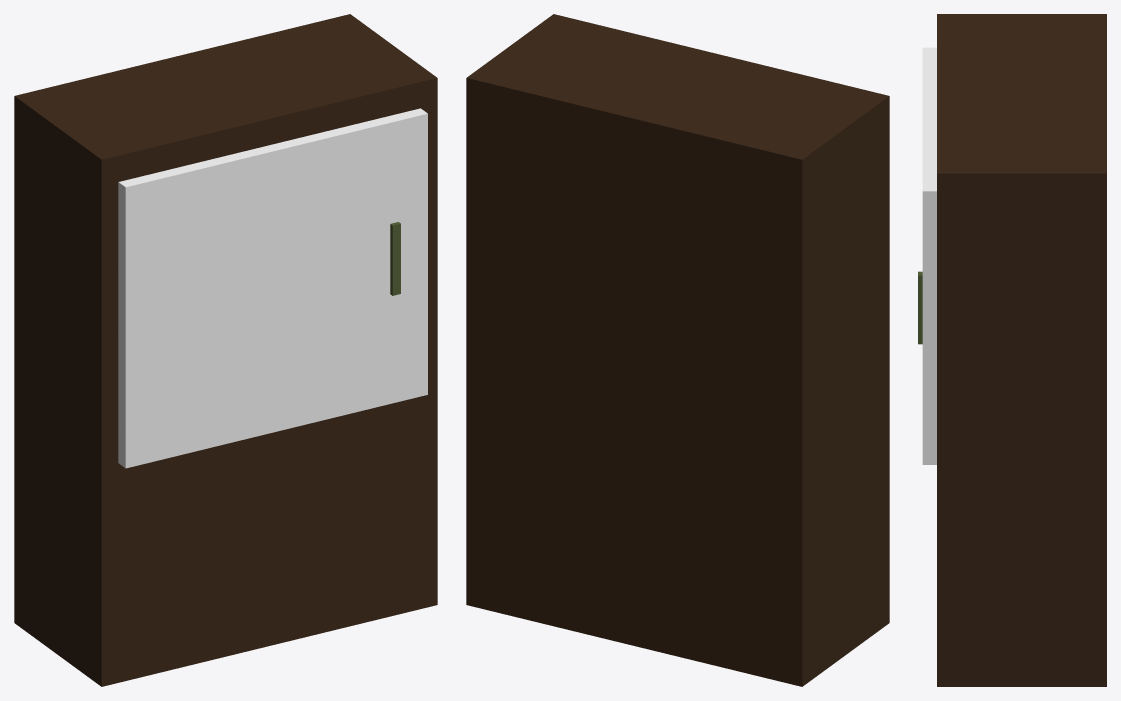
Rendered from balconycabinet.glb.
The picture shows the model from 3 angles, left to right: view 1: azimuth 30°, elevation 25°; view 2: azimuth 150°, elevation 25°; view 3: azimuth 270°, elevation 25°; orthographic projection. The views are drawn at different scales.
Parts seen in each view (by area): view 1: material-0-body, material-1-door, material-2-metal; view 2: material-0-body; view 3: material-0-body, material-1-door, material-2-metal.
Part boxes in pixels (x1,y1,x2,y2): material-0-body: (14, 14, 437, 686); material-1-door: (118, 108, 427, 468); material-2-metal: (390, 222, 400, 295); material-0-body: (466, 14, 889, 686); material-0-body: (937, 14, 1106, 686); material-1-door: (922, 47, 936, 464); material-2-metal: (918, 271, 922, 344).
Size of the model in its own units: 0.8 by 1.2 by 0.4.
